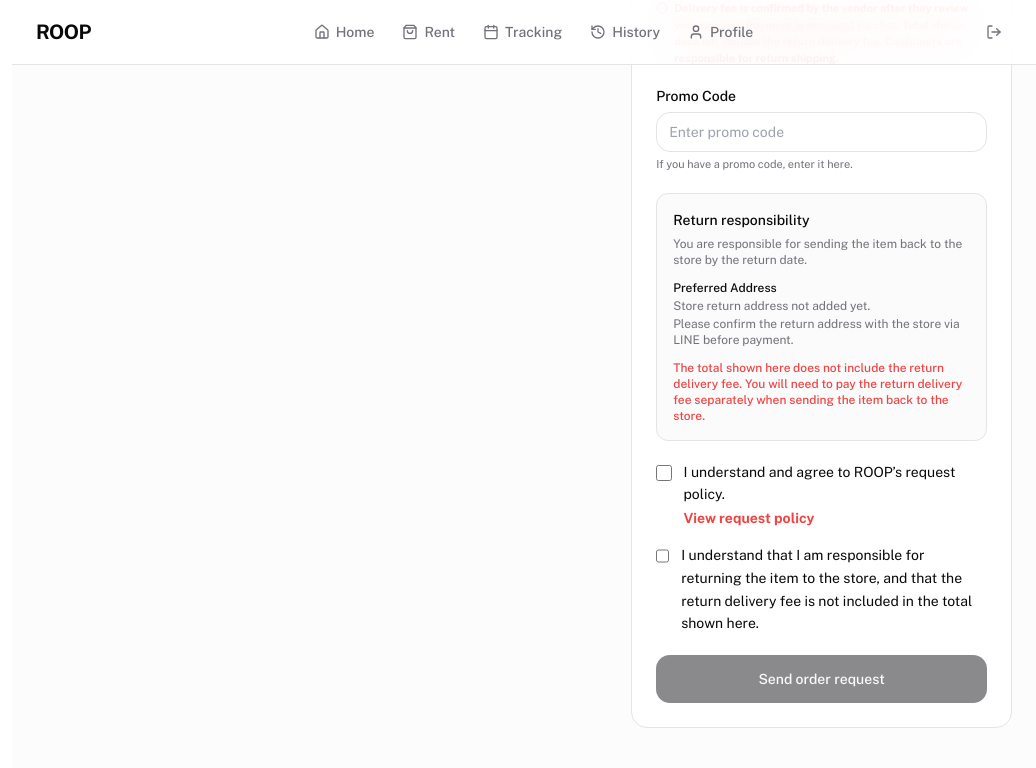
it: Bag Request Policy acknowledgement › enables Send order request when the checkbox is ticked and creates a booking with policy data
(page scrolled)
Click the checkbox labelled "I understand and agree to ROOP’s request policy.": (664, 472) x1=656 y1=464 x2=672 y2=480
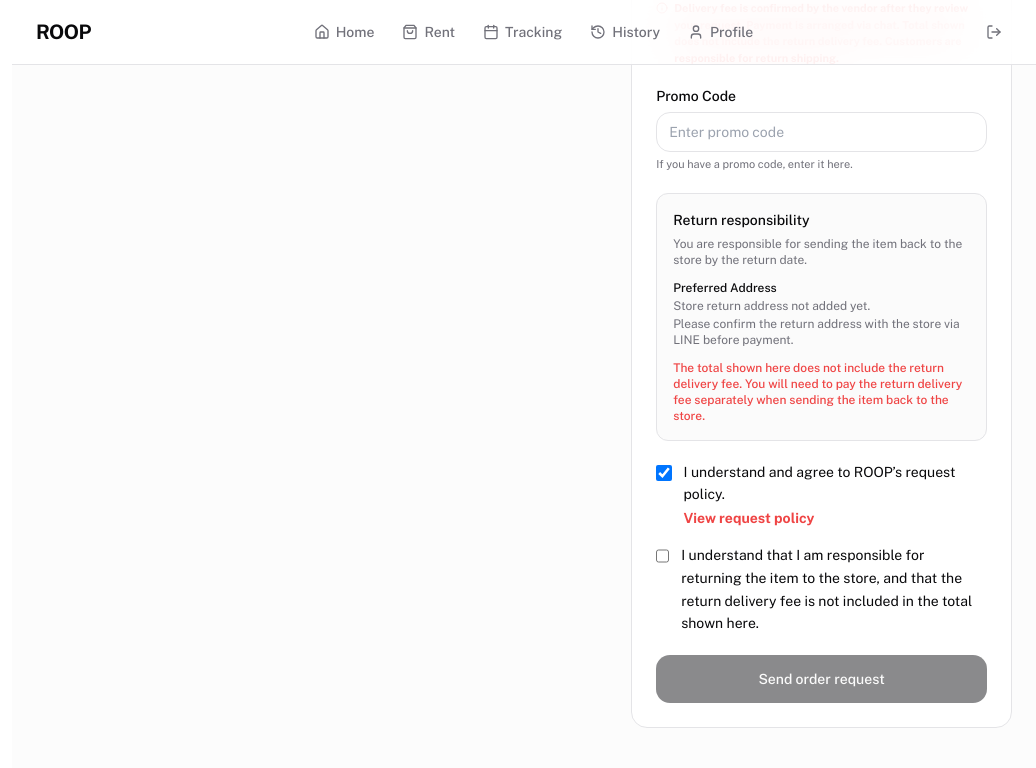
Click the checkbox labelled "responsible for returning": (663, 556) x1=656 y1=548 x2=669 y2=564
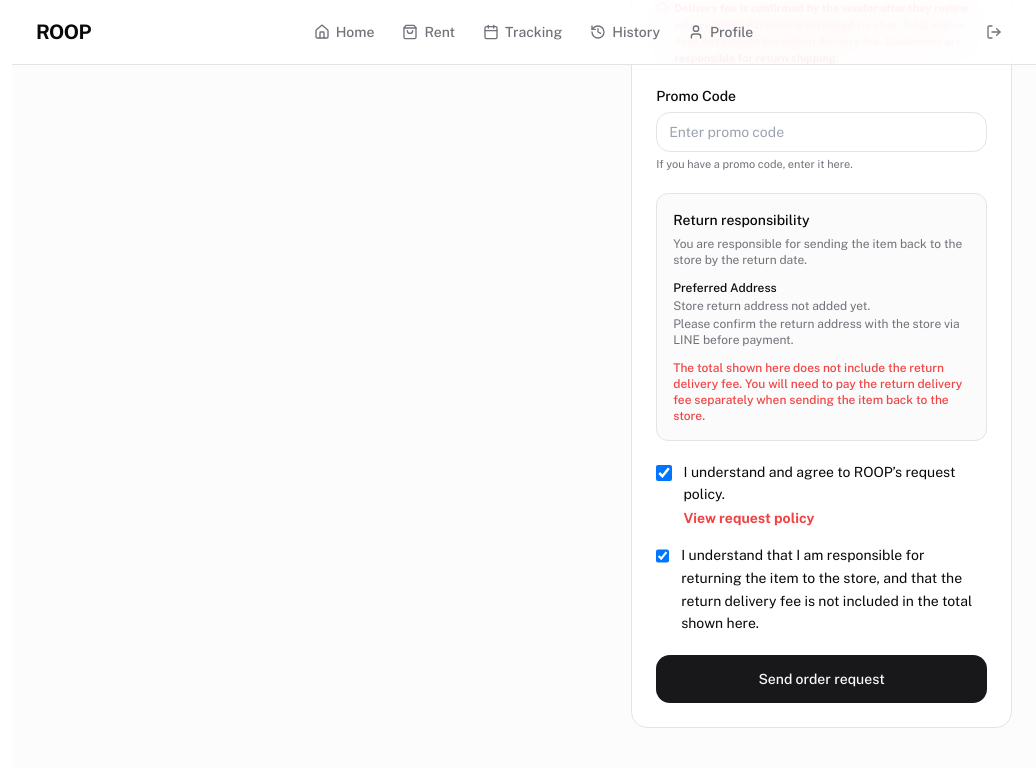
expect the checkbox labelled "I understand and agree to ROOP’s request policy." is checked: met, box x1=656 y1=464 x2=672 y2=480
expect the button "Send order request" is enabled: met
Click the button "Send order request": (822, 679) x1=656 y1=655 x2=987 y2=703
(page scrolled)
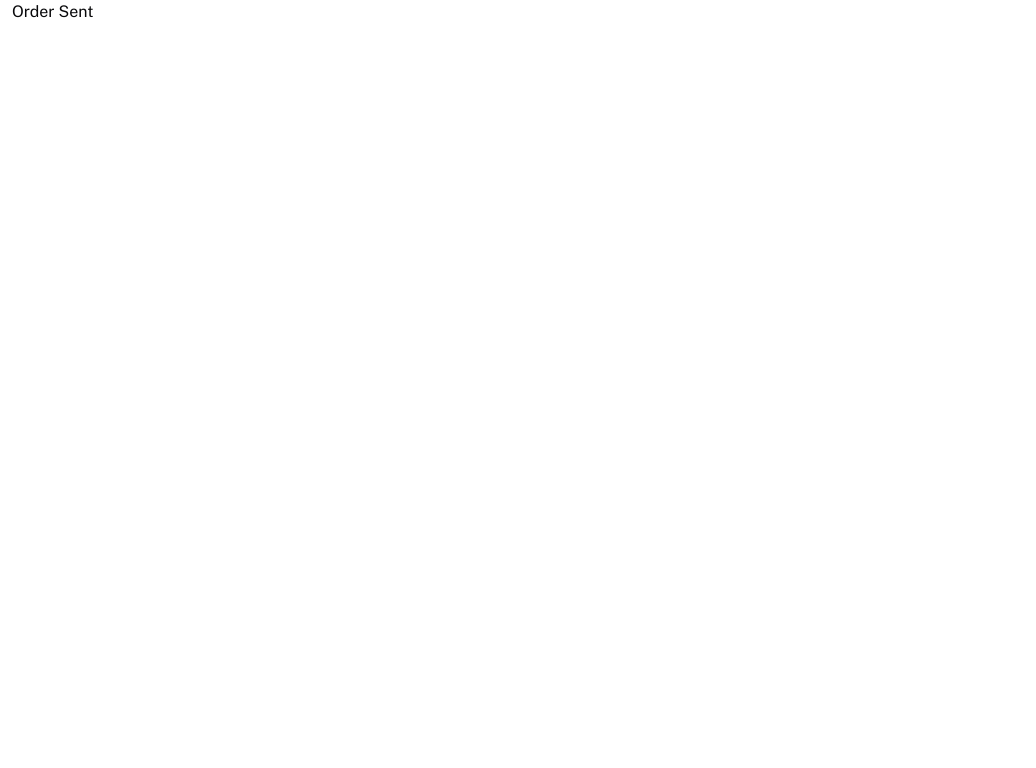
expect the text "Order Sent" is shown: met, box x1=12 y1=2 x2=93 y2=21
